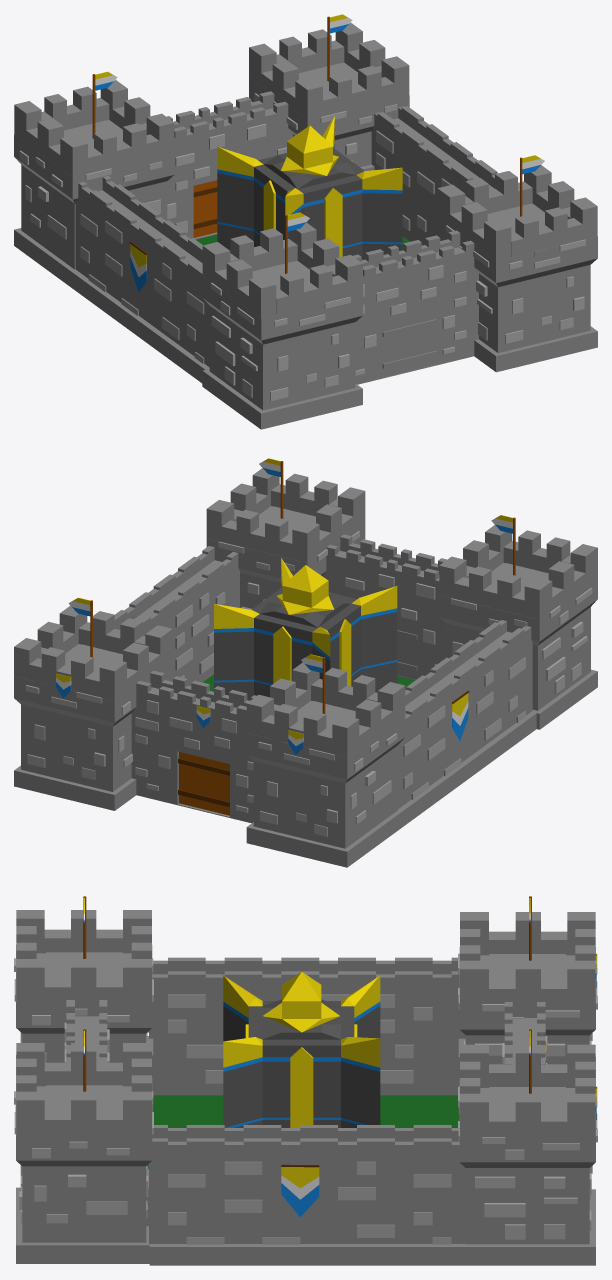
File: BaseCastle.fbx
3 renders of one model, top to bottom at view 1: azimuth 30°, elevation 25°; view 2: azimuth 150°, elevation 25°; view 3: azimuth 270°, elevation 25°, orthographic. The views are drawn at different scales.
Visible parts, largest first — view 1: BaseCastle; view 2: BaseCastle; view 3: BaseCastle.
Part boxes in pixels (left/top/right/bottom): BaseCastle: left=14, top=14, right=597, bottom=429; BaseCastle: left=14, top=458, right=597, bottom=867; BaseCastle: left=14, top=896, right=597, bottom=1265.
Size of the model in its own units: 1617 by 808 by 2059.
